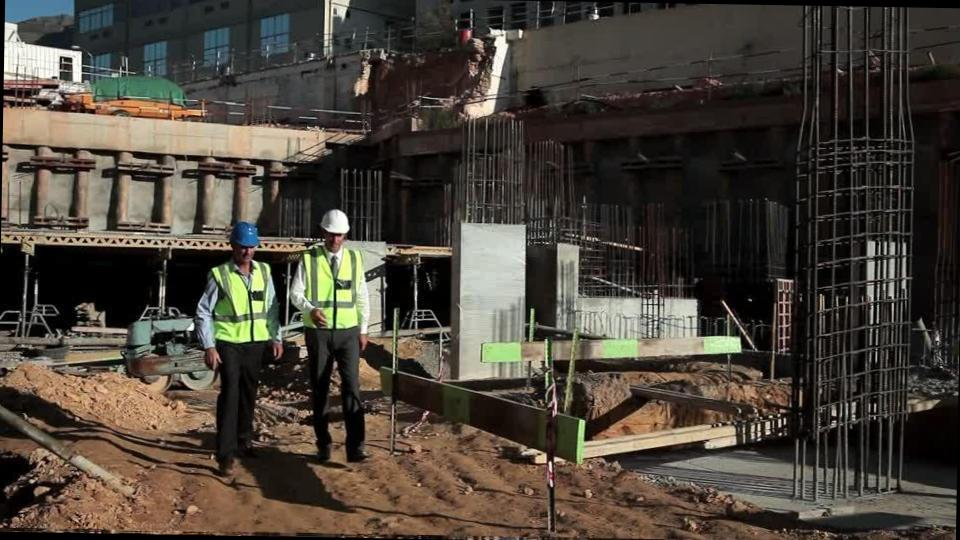Vest: (288, 240, 376, 338), (206, 256, 286, 358)
